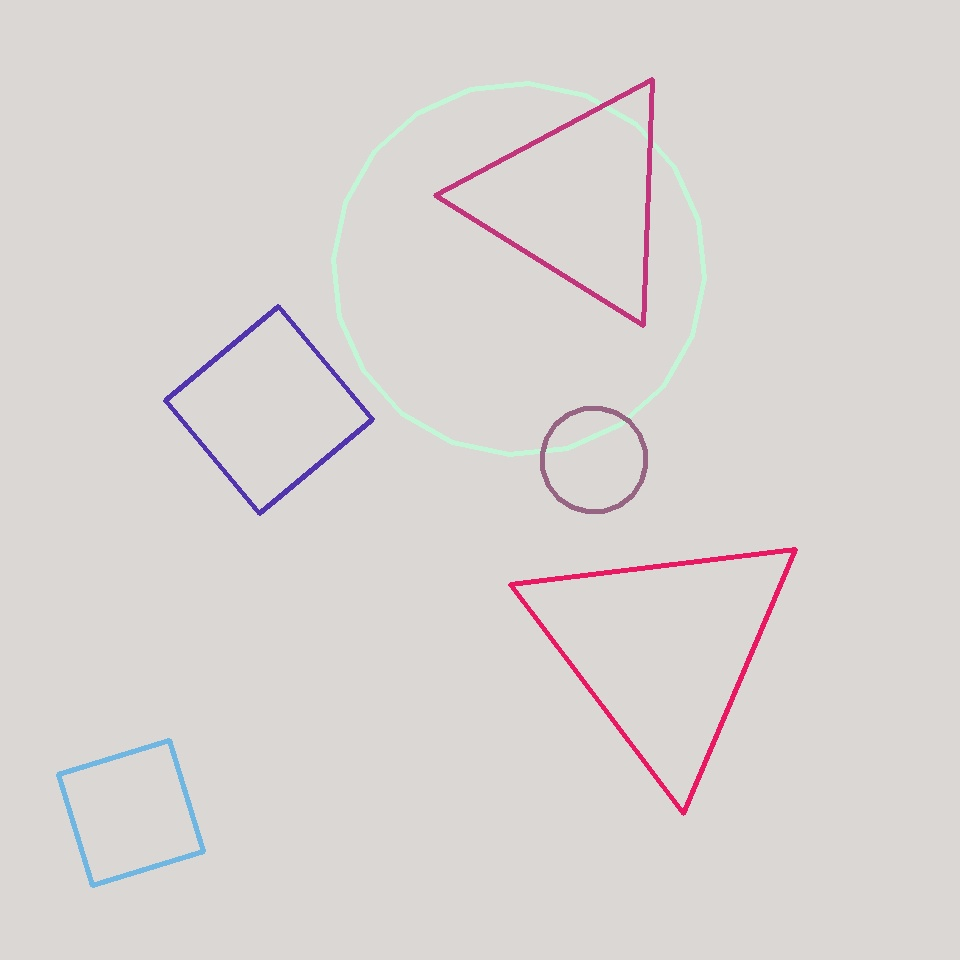circle: (520, 517, 806, 781), (468, 77, 686, 323)
square: (166, 306, 373, 514), (58, 740, 204, 886)
triangle: (334, 84, 704, 454), (543, 408, 646, 512)
